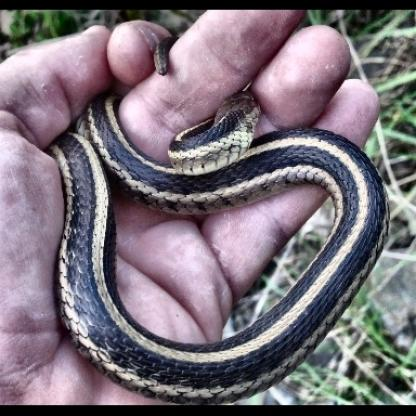Snake: (38, 33, 390, 406)
